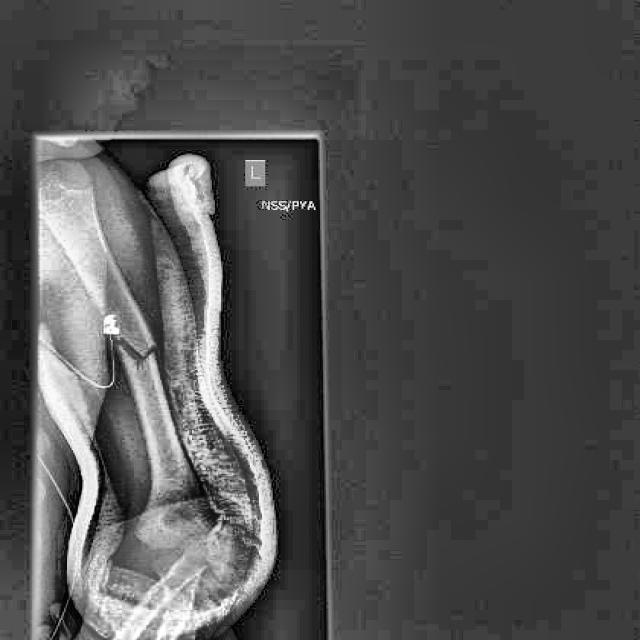humerus: (107, 298, 182, 403)
